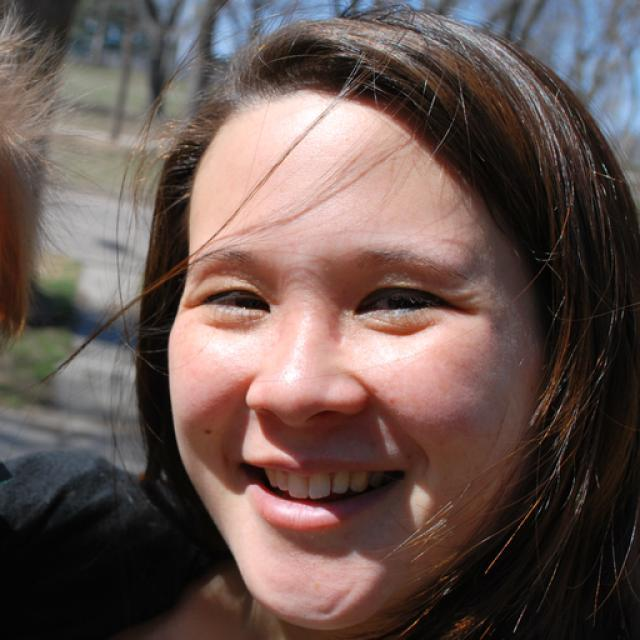happy: (166, 107, 545, 625)
